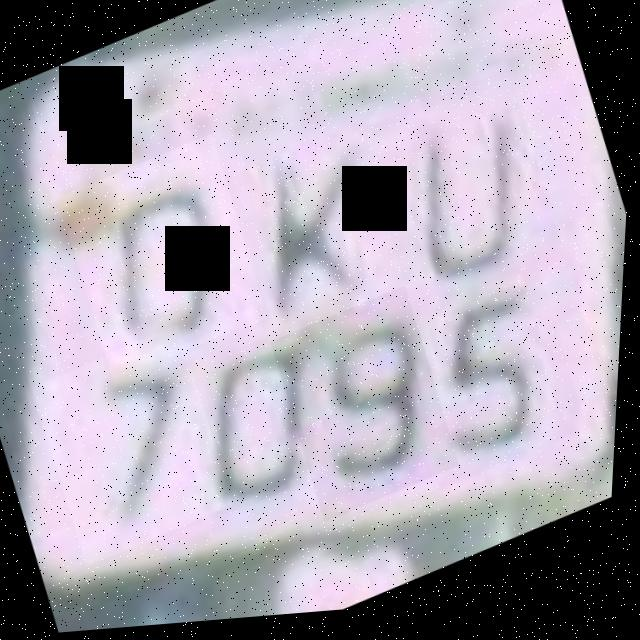0: (144, 302, 368, 552)
5: (375, 256, 599, 504)
7: (29, 325, 246, 572)
9: (267, 288, 472, 531)
O: (53, 133, 278, 388)
U: (352, 72, 577, 333)
X: (189, 109, 420, 362)
